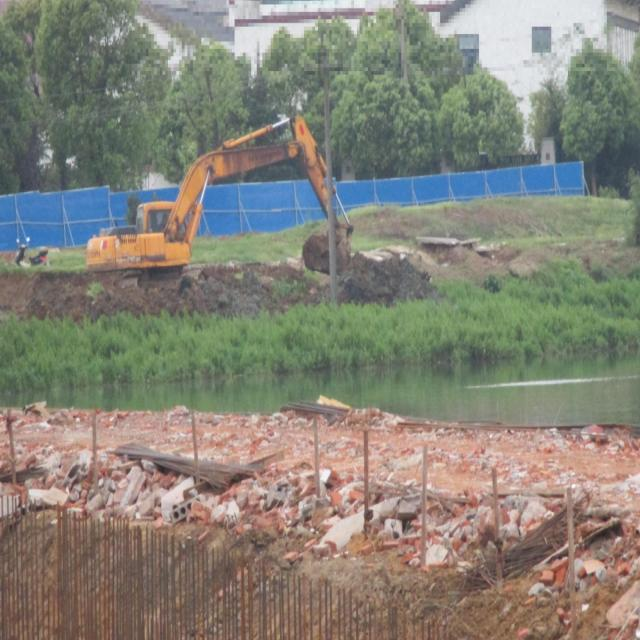excavator: (85, 113, 354, 290)
